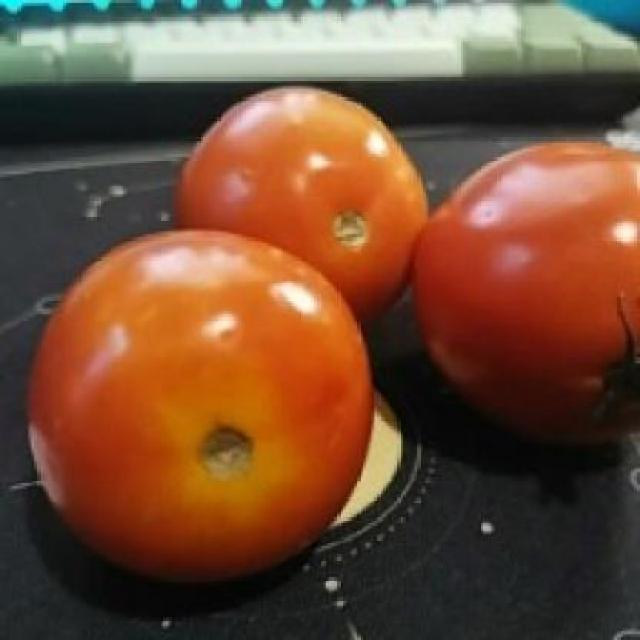Fresh Tomato: (24, 228, 380, 590), (408, 142, 640, 452), (169, 61, 435, 306)
